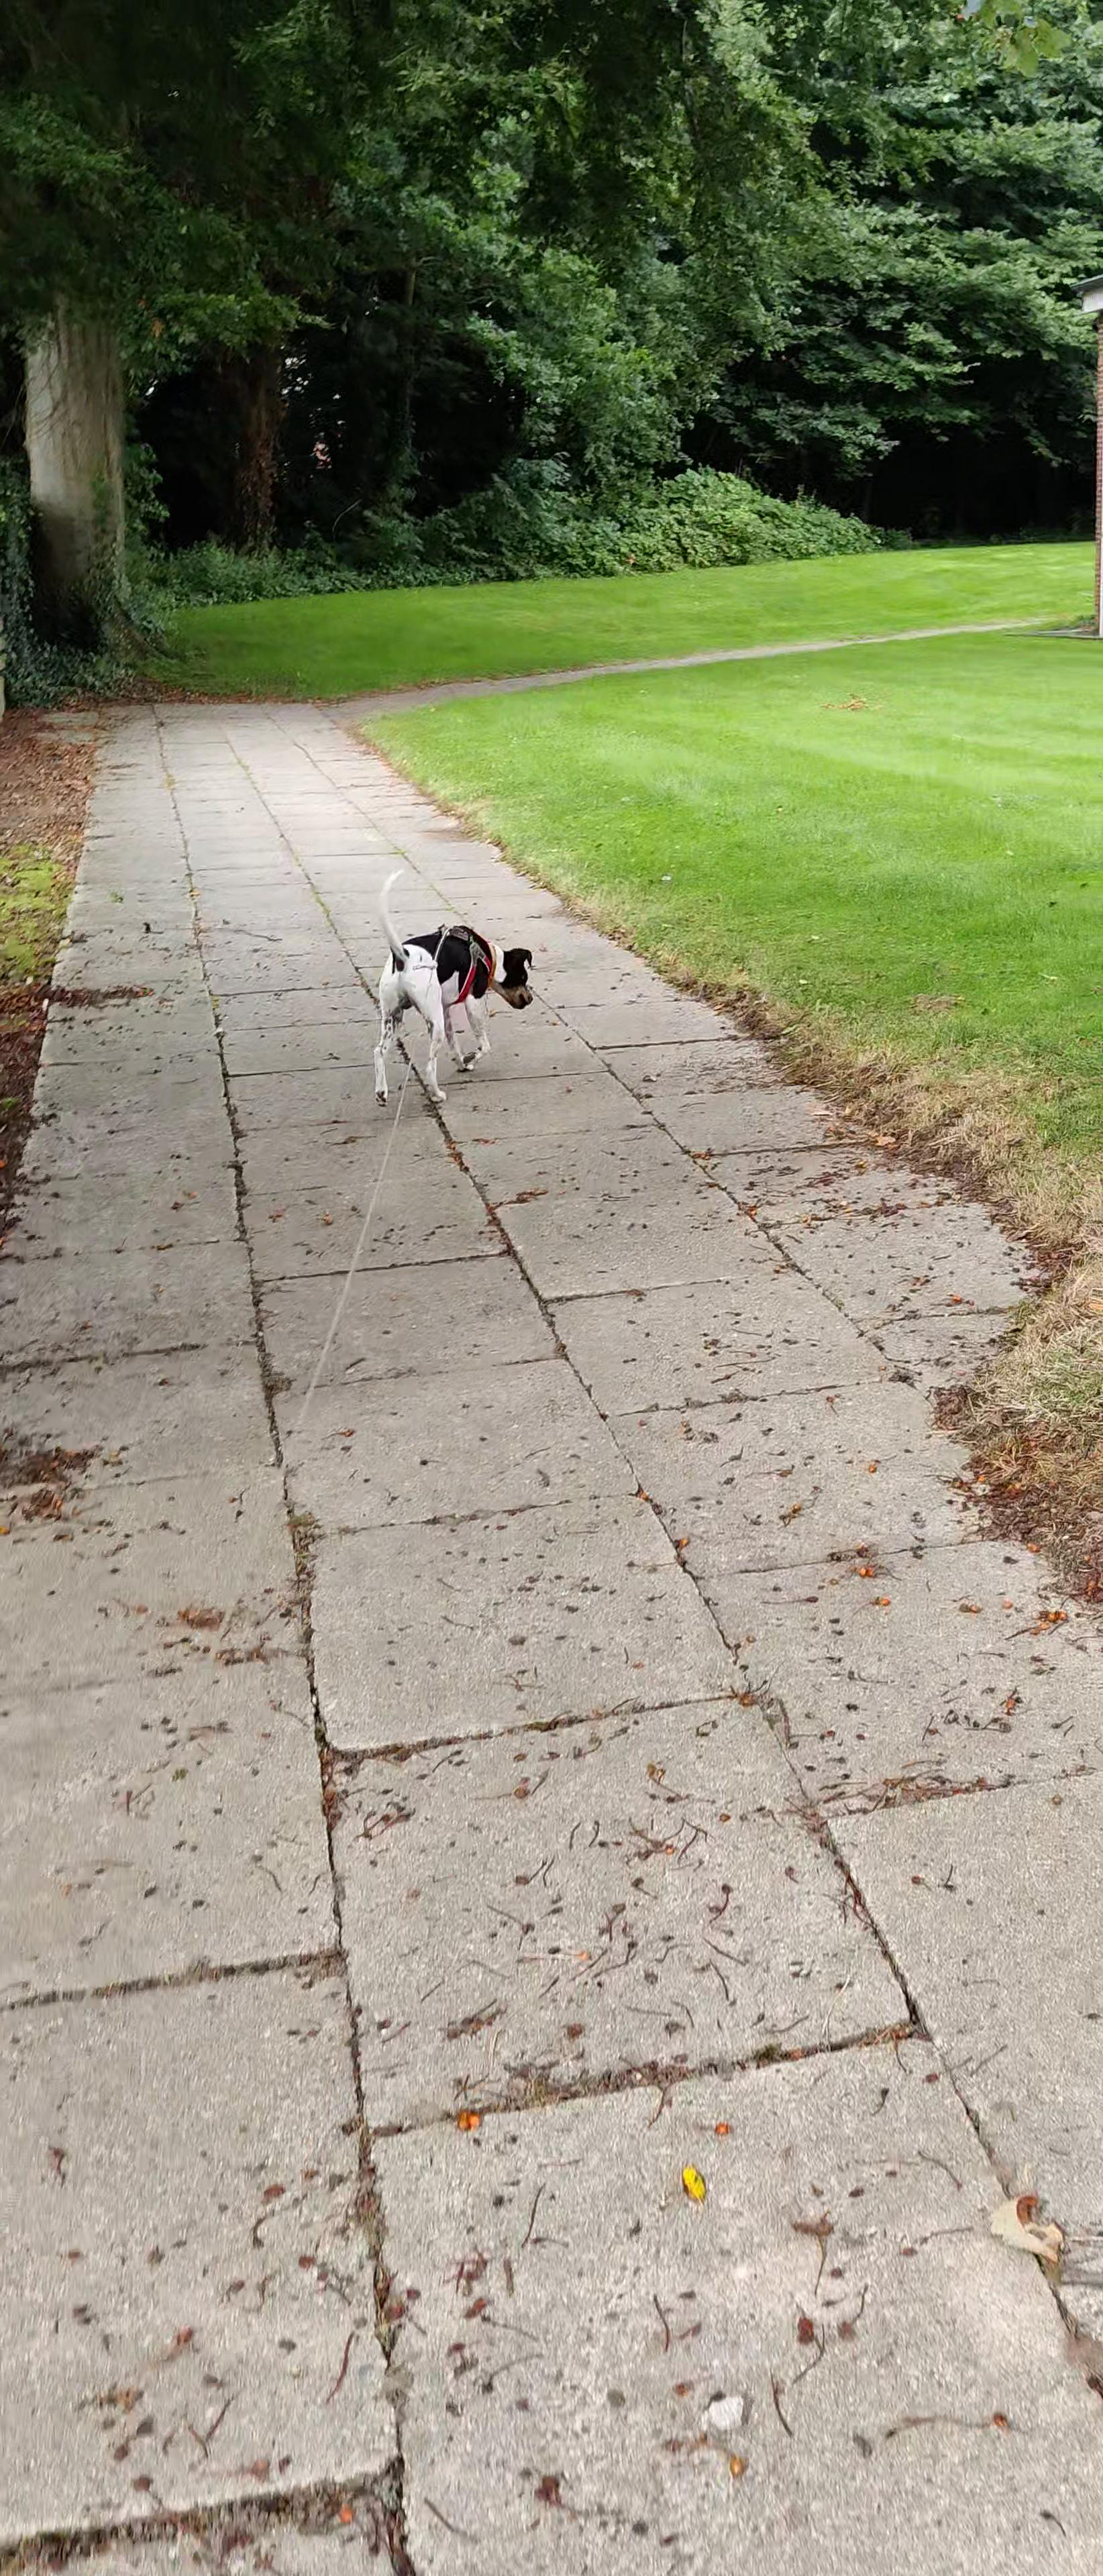Dog: (363, 864, 536, 1106)
